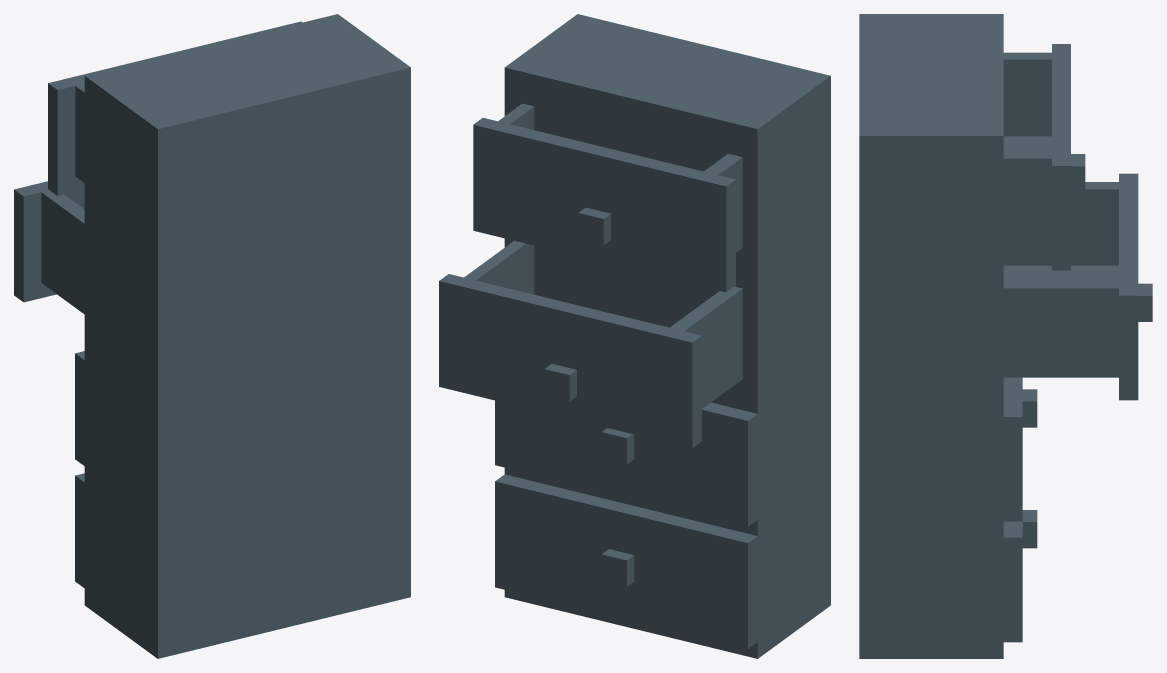
The model's file is archival cases_3.fbx.
3 renders of one model, left to right at view 1: azimuth 30°, elevation 25°; view 2: azimuth 150°, elevation 25°; view 3: azimuth 270°, elevation 25°, orthographic.
Parts seen in each view (by area): view 1: archival cases_3.001; view 2: archival cases_3.001; view 3: archival cases_3.001.
Part boxes in pixels (<box>): archival cases_3.001: <box>14,14,410,658</box>; archival cases_3.001: <box>439,14,830,658</box>; archival cases_3.001: <box>859,14,1152,658</box>.
Size of the model in its own units: 101 by 200 by 102.
